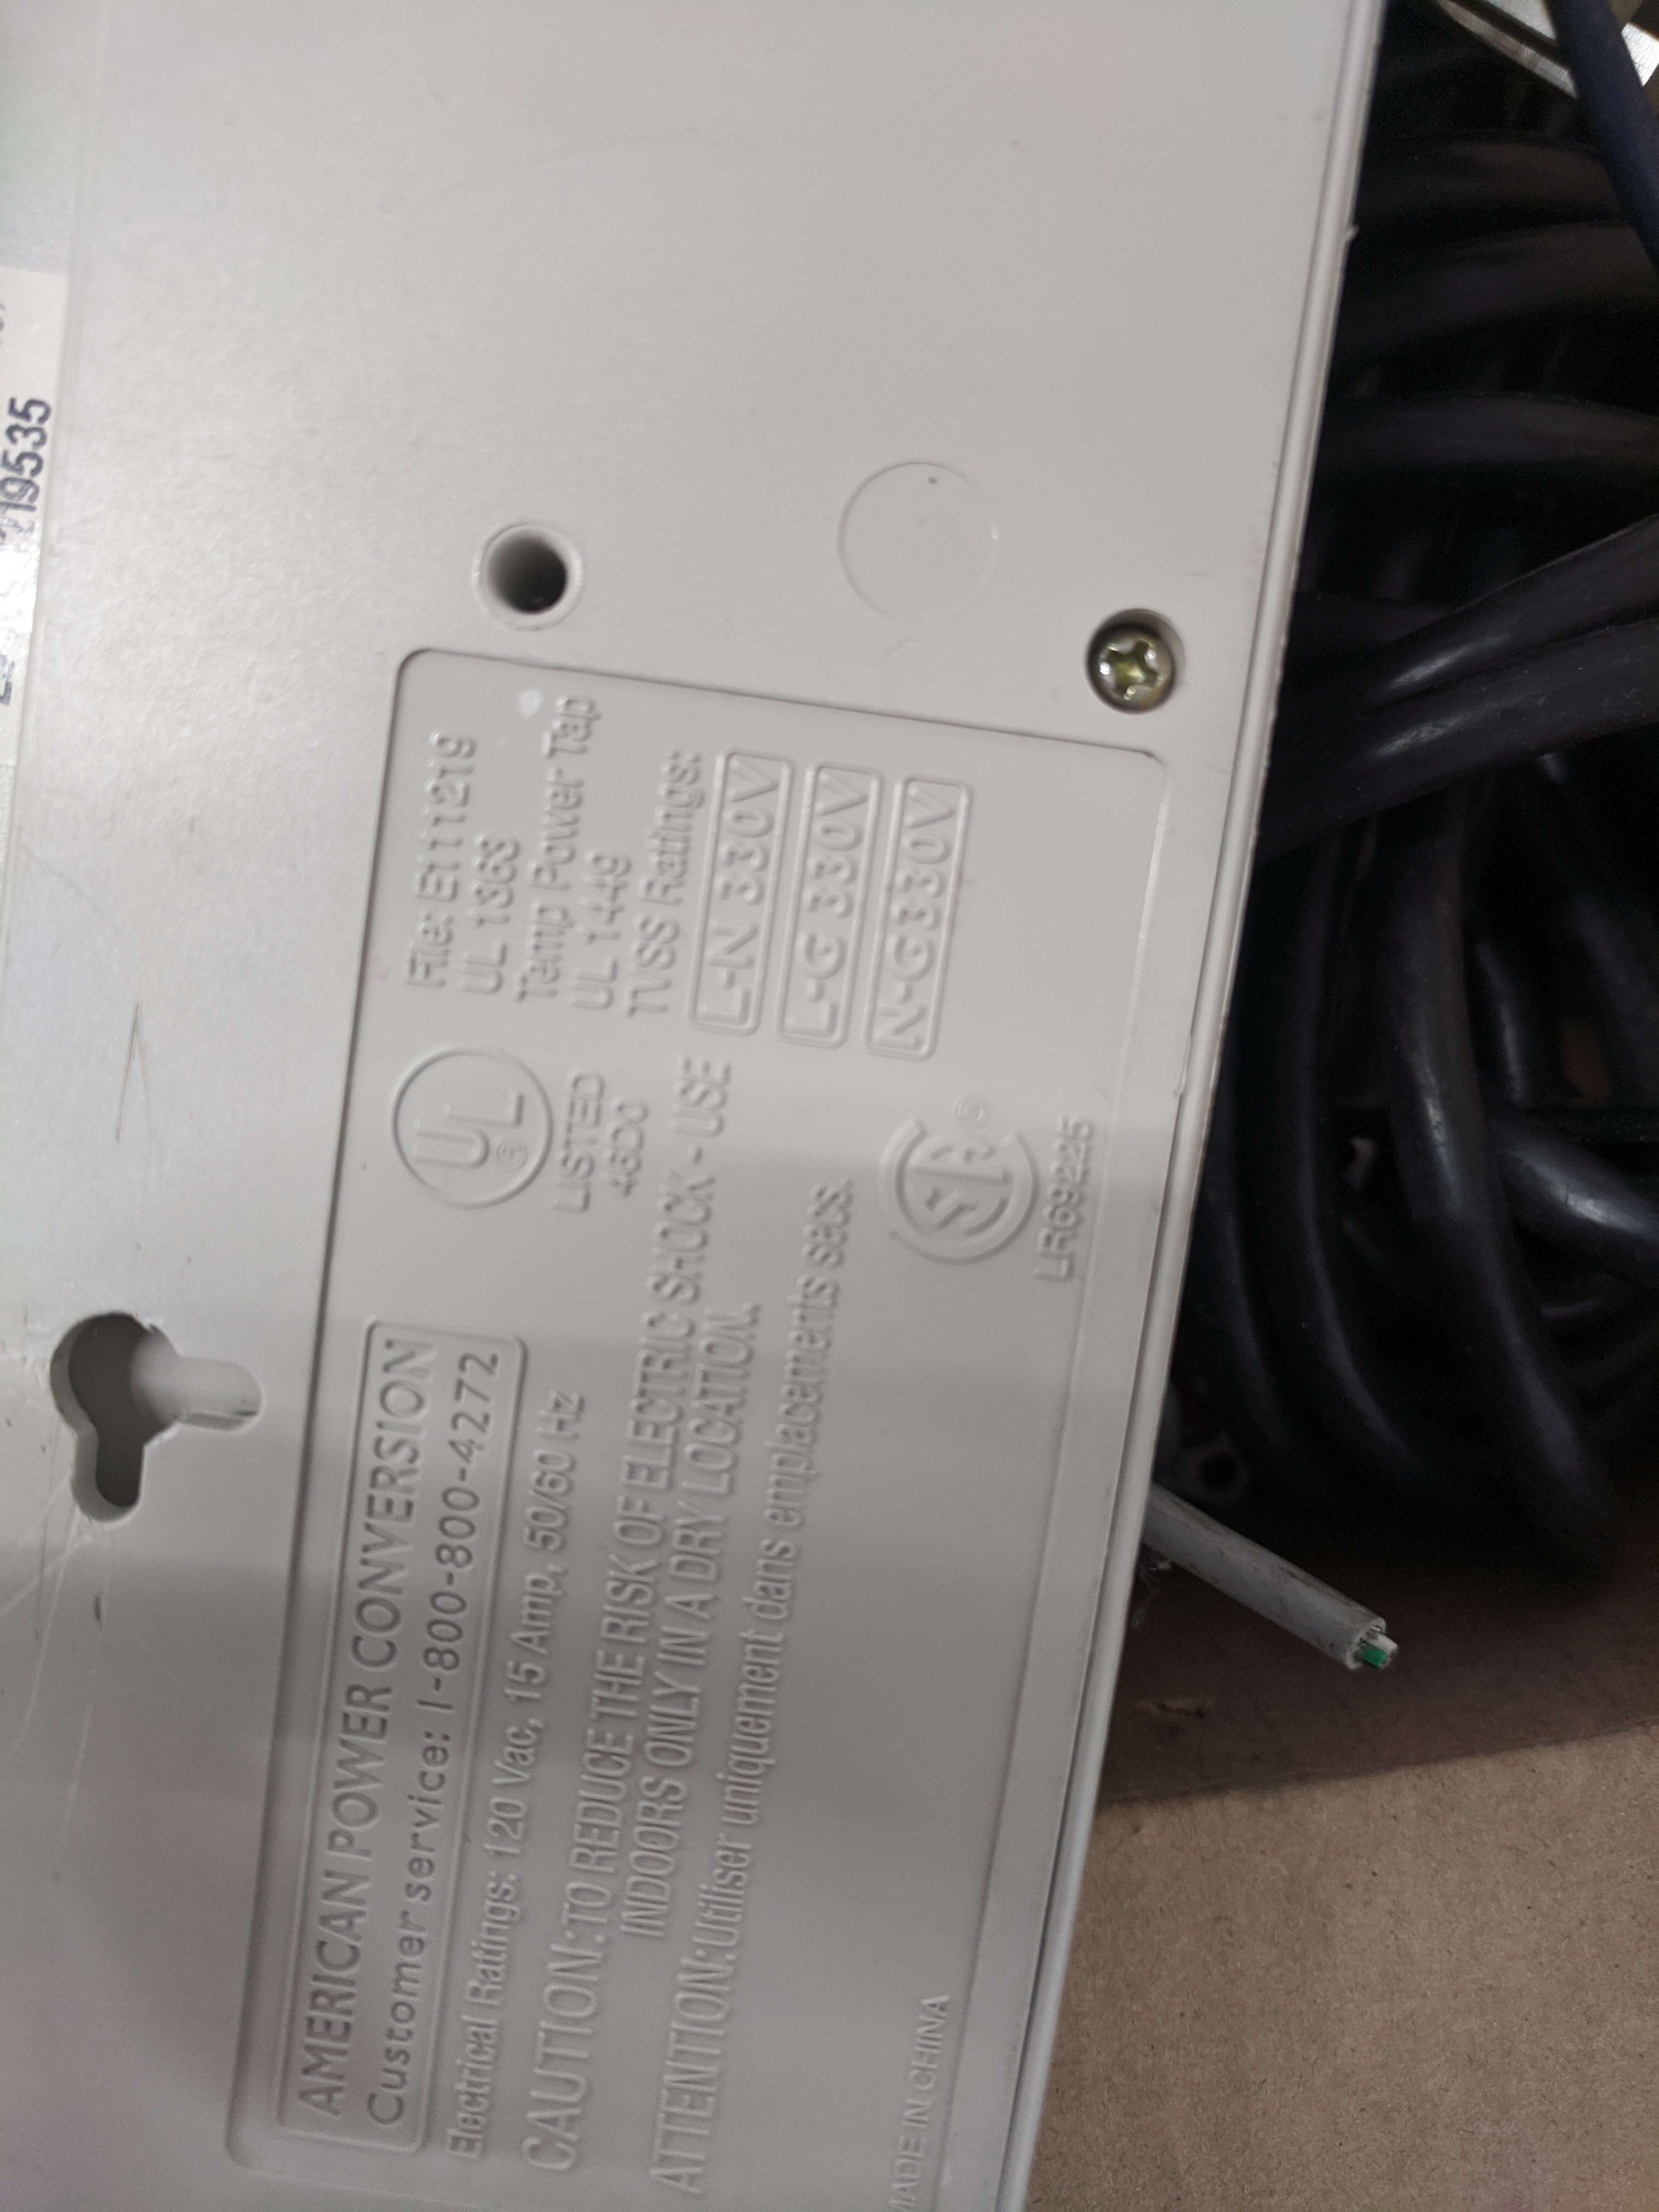cross_recessed_screw: (1077, 590, 1194, 718)
